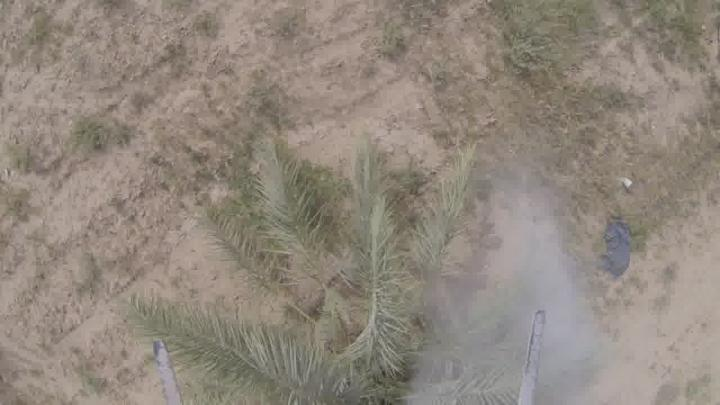Date-Palm-Crown: (249, 183, 513, 405)
